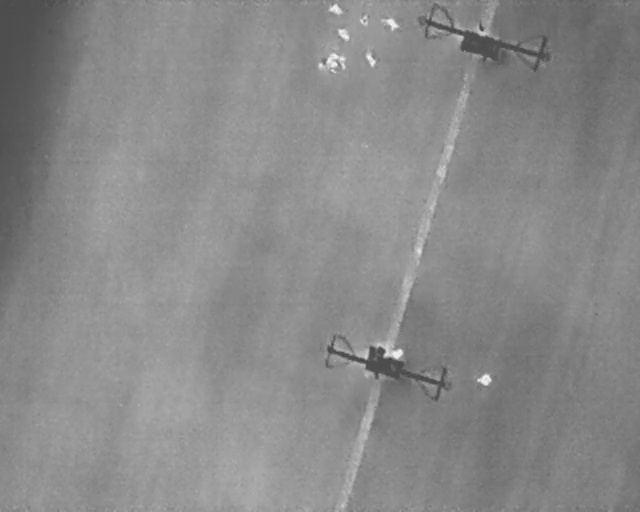Person: (325, 45, 352, 73), (378, 14, 400, 33), (381, 345, 405, 362), (335, 24, 354, 44), (362, 49, 379, 70), (319, 59, 339, 74), (476, 372, 493, 386), (327, 1, 343, 14), (360, 14, 369, 26)
